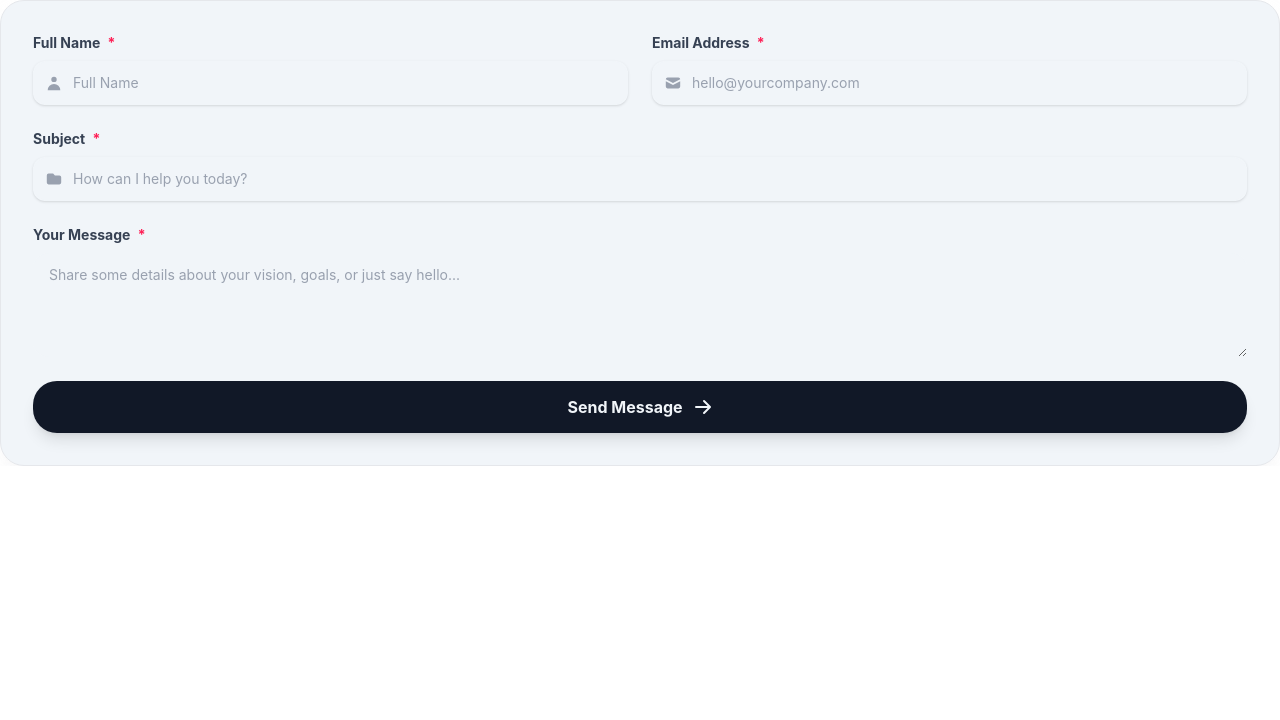
Scenario: ContactForm › displays error message when API returns an error
The image size is (1280, 720).
Type "John Doe" into the field labelled "Full Name *".
click(330, 83); type("John Doe")  # box 33,61 -> 628,105
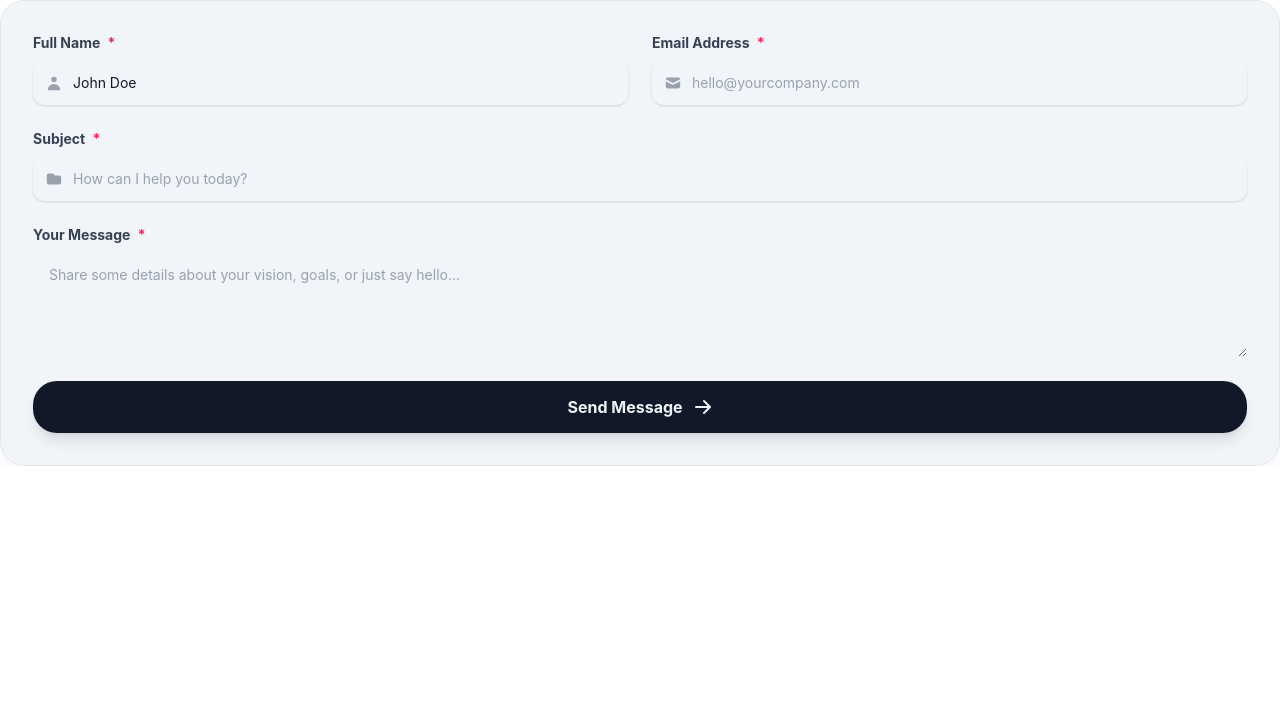
Type "john@example.com" into the field labelled "Email Address *".
click(950, 83); type("john@example.com")  # box 652,61 -> 1247,105
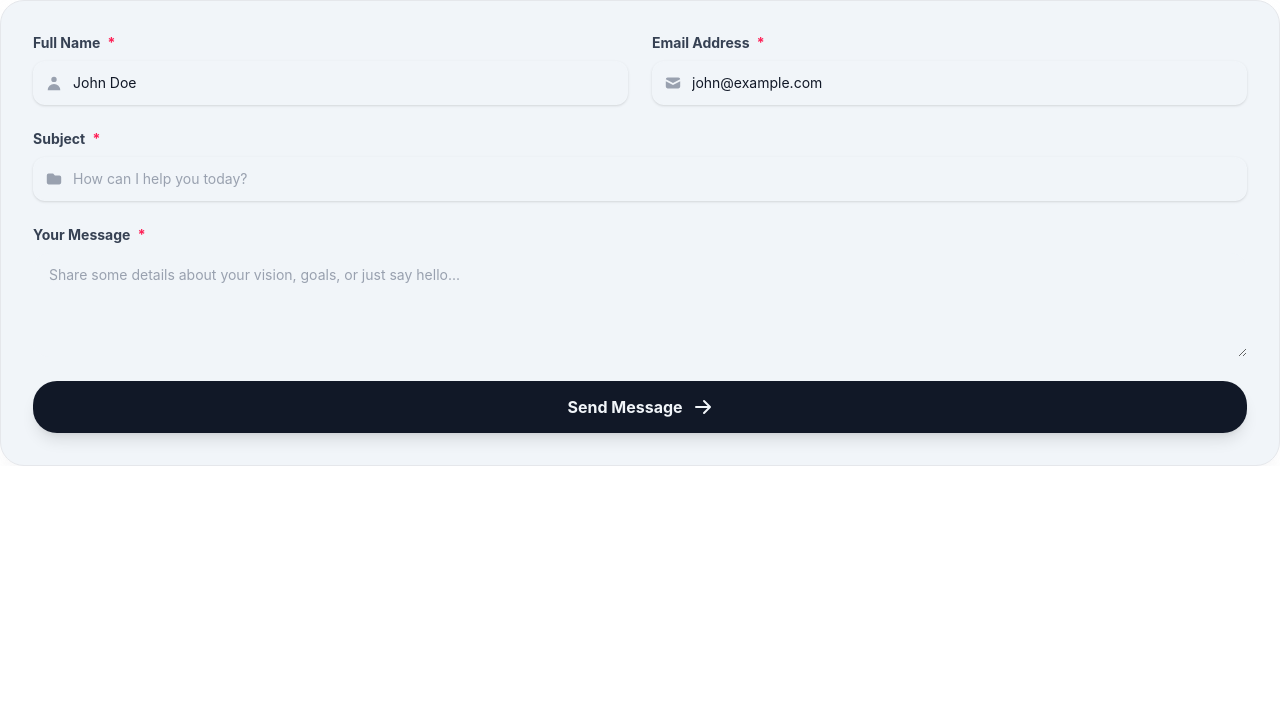
Type "Hello" into the field labelled "Subject *".
click(640, 179); type("Hello")  # box 33,157 -> 1247,201
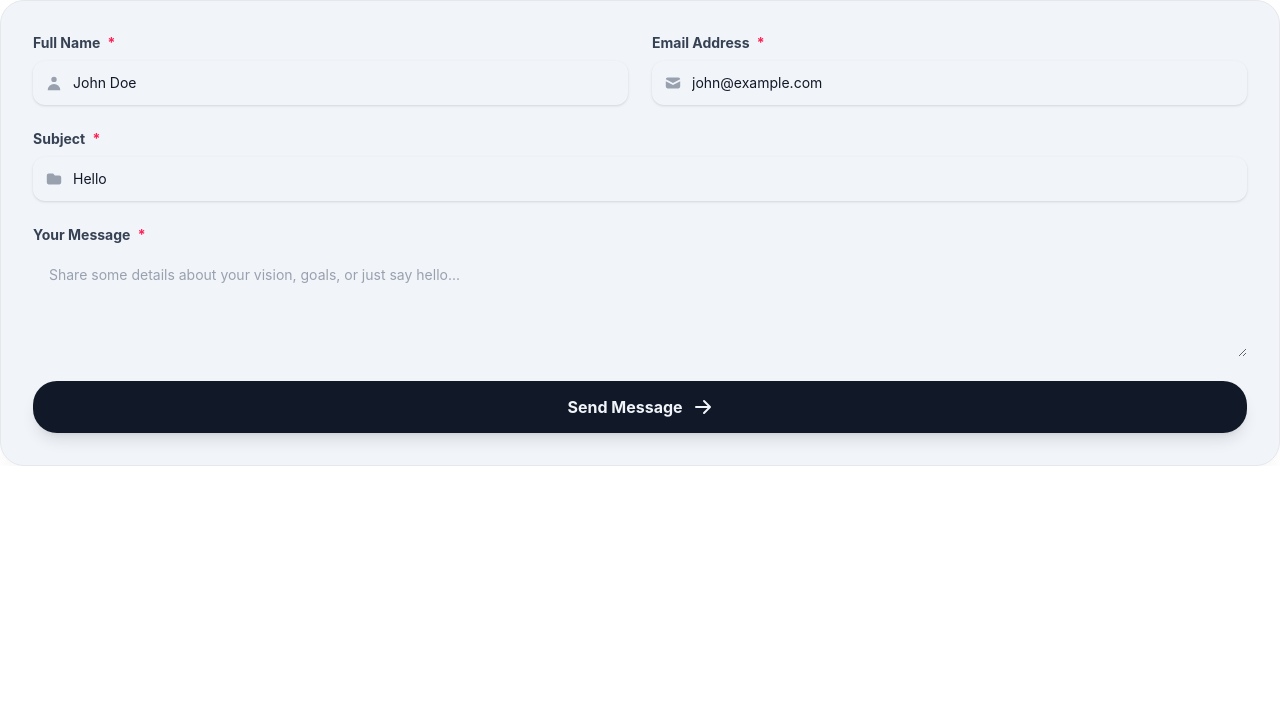
Replace the text in the text box labelled "Your Message *" with "World" at (640, 305), box 33,253 -> 1247,357
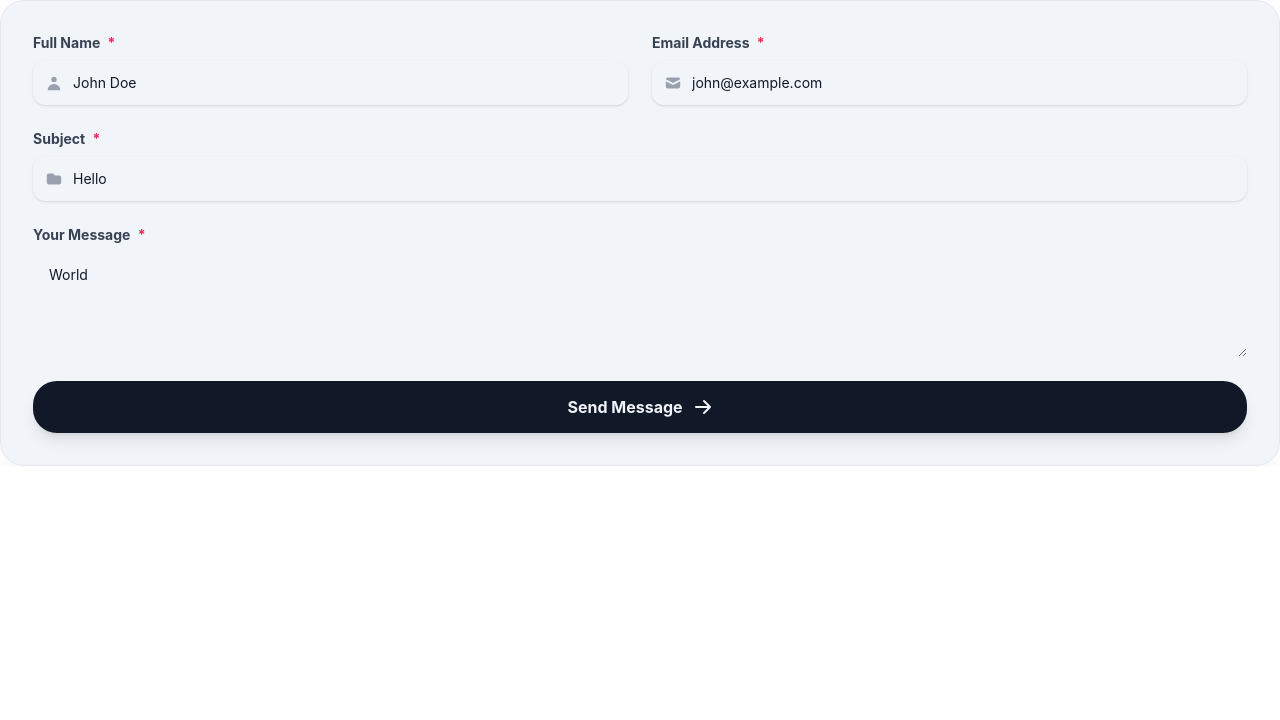
Click the button "Send Message".
click(640, 407)  # box 33,381 -> 1247,433
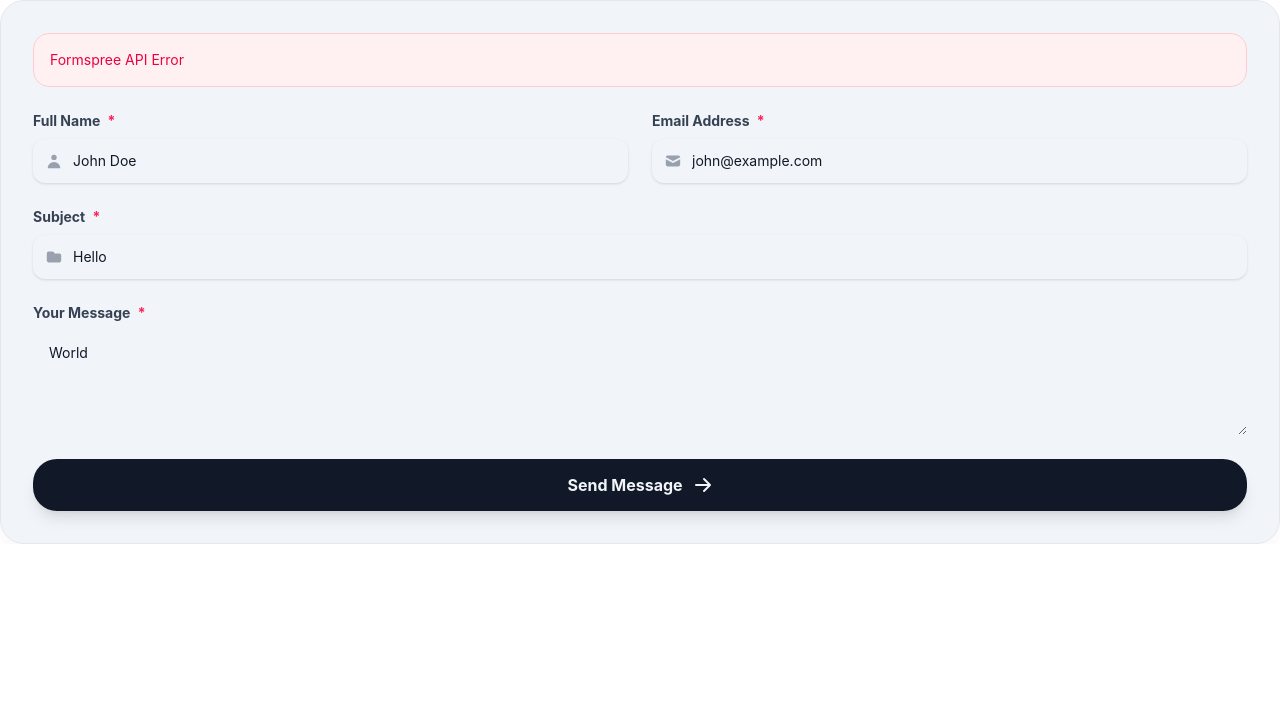
Check: the text "Formspree API Error" is shown, box 33,33 -> 1247,87
